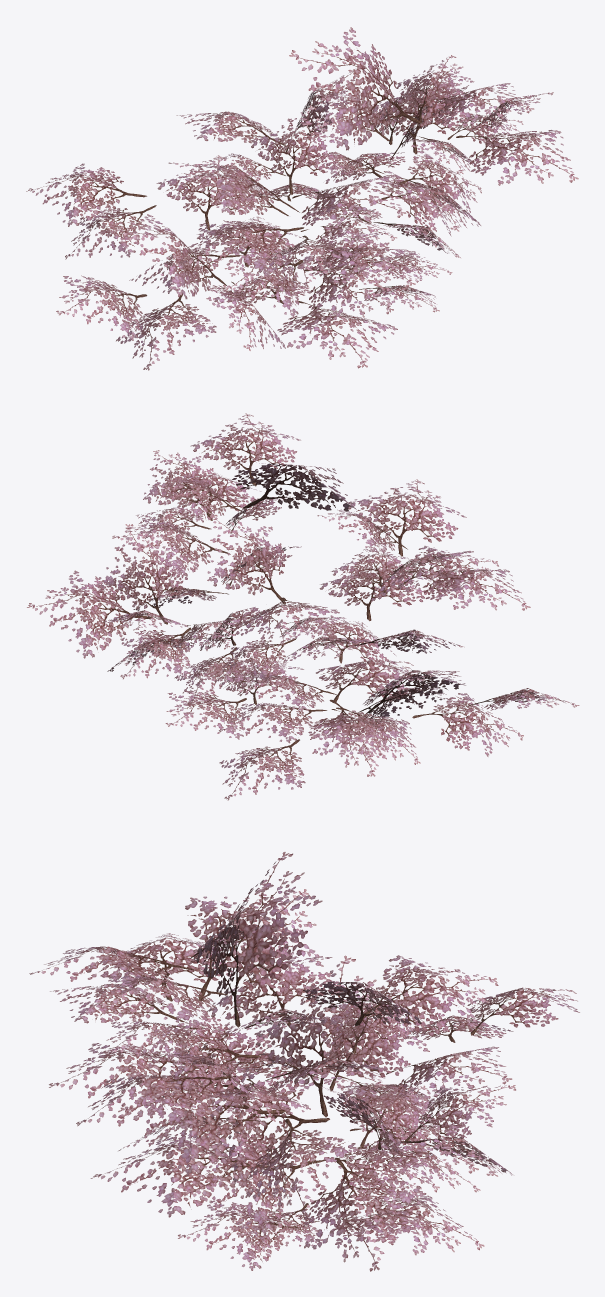
File: Yland1_yz_14 Yland1.FBX
The picture shows the model from 3 angles, top to bottom: view 1: azimuth 30°, elevation 25°; view 2: azimuth 150°, elevation 25°; view 3: azimuth 270°, elevation 25°; orthographic projection. The views are drawn at different scales.
Parts seen in each view (by area): view 1: Yland1_yz_14 Yland1; view 2: Yland1_yz_14 Yland1; view 3: Yland1_yz_14 Yland1.
Boxes of the visible parts, x1,y1,x2,y2 form: Yland1_yz_14 Yland1: [26, 27, 578, 370]; Yland1_yz_14 Yland1: [27, 413, 579, 800]; Yland1_yz_14 Yland1: [29, 852, 579, 1271].
Bounding box in the file's own units: 13.04 × 7.61 × 10.31.
